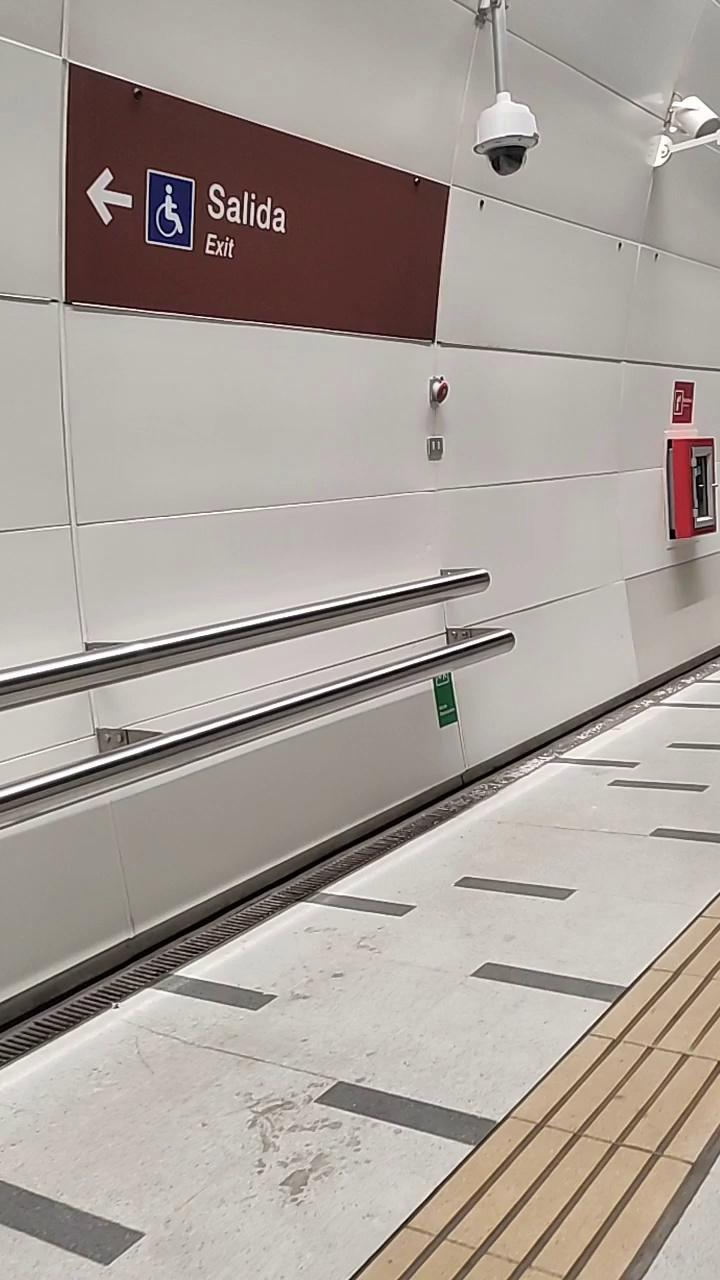handicapped symbol: (154, 183, 185, 238)
left arrow: (84, 166, 135, 226)
